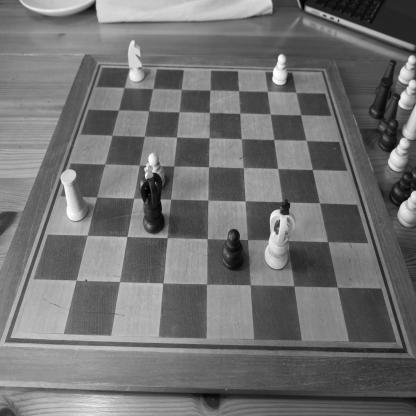black-bishop: (374, 60, 398, 96)
black-king: (138, 162, 168, 236)
black-pawn: (389, 171, 415, 207), (222, 226, 243, 270), (380, 118, 400, 154)
black-rook: (367, 74, 396, 121), (375, 91, 402, 136)
white-king: (263, 199, 298, 272)
white-knight: (126, 38, 146, 83)
white-pawn: (386, 138, 411, 174), (397, 189, 415, 231), (146, 152, 166, 188), (271, 52, 289, 87), (398, 52, 416, 85), (399, 79, 416, 112)
white-rook: (58, 168, 91, 224)
